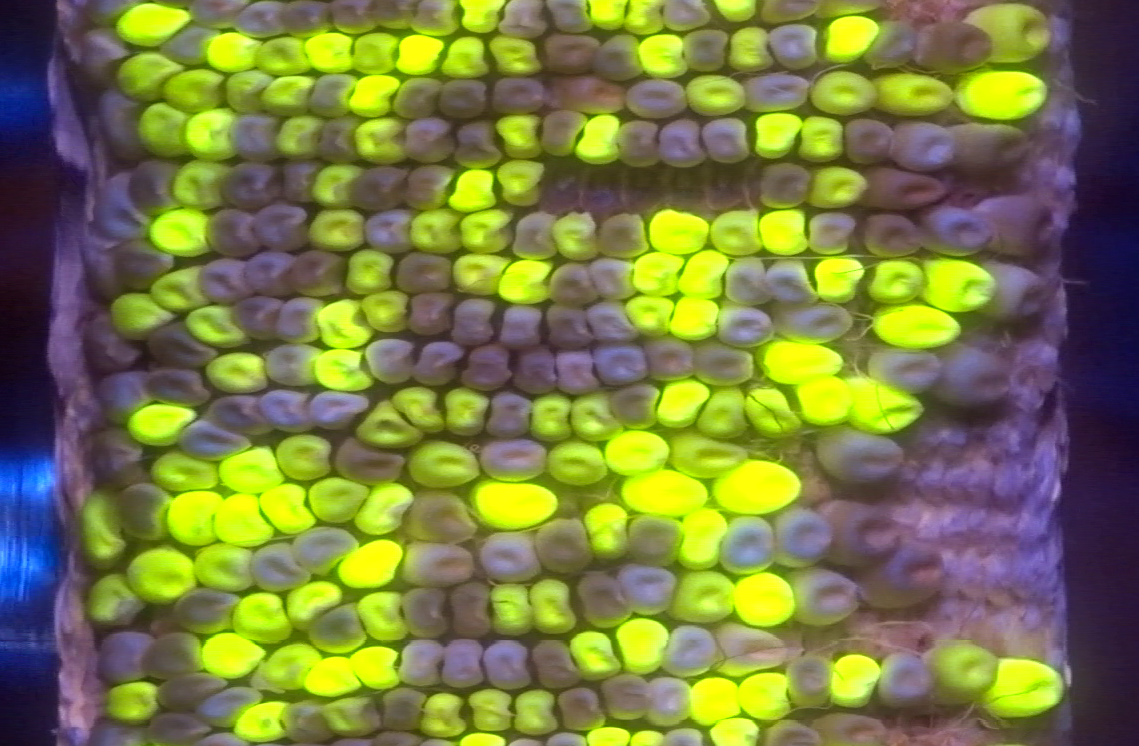fluorescent: (966, 7, 1055, 62), (844, 377, 924, 438), (927, 642, 998, 706), (982, 659, 1060, 717), (711, 465, 801, 515), (470, 482, 557, 530), (964, 74, 1044, 123), (623, 471, 709, 514), (250, 642, 321, 694), (872, 305, 961, 346), (671, 568, 732, 625), (925, 263, 994, 313), (131, 549, 194, 603), (355, 401, 423, 449), (759, 342, 842, 381), (734, 576, 796, 628), (873, 77, 953, 117), (668, 435, 746, 476), (743, 383, 800, 438), (546, 436, 605, 489), (679, 507, 729, 569), (355, 481, 412, 535), (116, 53, 177, 103), (606, 428, 668, 477), (617, 618, 667, 675), (128, 405, 197, 446), (83, 492, 125, 559), (829, 653, 880, 708), (408, 444, 478, 484), (261, 485, 317, 535), (683, 70, 745, 115), (809, 73, 878, 113), (233, 592, 293, 638), (335, 544, 400, 586), (276, 434, 334, 481), (308, 478, 367, 524), (647, 212, 710, 255), (88, 574, 140, 626), (168, 494, 220, 545), (531, 577, 577, 634), (202, 633, 264, 675), (216, 496, 269, 545), (151, 211, 210, 255), (110, 297, 174, 337), (139, 106, 187, 159), (317, 300, 372, 346), (194, 547, 254, 589), (566, 630, 619, 677), (738, 673, 791, 720), (315, 351, 375, 392), (173, 162, 224, 210), (115, 7, 181, 44), (794, 383, 847, 428), (576, 112, 620, 166), (288, 582, 343, 625), (394, 387, 443, 435), (676, 250, 726, 297), (489, 580, 536, 630), (222, 450, 282, 489), (303, 655, 360, 696), (685, 681, 742, 722), (346, 646, 400, 689), (713, 209, 760, 258), (185, 114, 235, 160), (569, 394, 620, 439), (359, 593, 407, 640), (453, 253, 506, 295), (153, 455, 218, 489), (553, 210, 598, 259), (585, 506, 629, 556), (502, 260, 553, 303), (188, 308, 247, 345), (497, 162, 544, 208), (812, 167, 866, 207), (466, 685, 511, 733), (355, 117, 405, 160), (869, 259, 920, 301), (462, 209, 512, 251), (675, 294, 721, 339), (422, 690, 467, 736), (488, 33, 541, 72), (828, 18, 876, 61), (346, 251, 394, 294), (208, 354, 268, 388), (152, 272, 207, 309), (697, 388, 743, 432), (755, 113, 798, 160), (530, 393, 572, 441), (631, 252, 679, 293), (236, 703, 290, 739), (165, 73, 222, 107), (103, 684, 154, 722), (730, 27, 774, 71), (315, 164, 359, 208), (305, 31, 350, 74), (659, 382, 700, 429), (801, 119, 843, 164), (760, 214, 805, 256), (639, 33, 685, 74), (412, 211, 458, 252), (347, 77, 395, 116), (447, 389, 486, 436), (625, 296, 674, 333), (259, 36, 306, 74), (279, 116, 319, 159), (313, 214, 362, 249), (498, 117, 544, 154), (449, 171, 495, 208), (400, 32, 441, 73), (816, 259, 857, 300), (354, 35, 398, 73), (203, 36, 255, 68), (443, 37, 484, 77), (517, 692, 554, 734), (364, 296, 409, 329), (227, 74, 267, 111), (455, 1, 504, 31), (266, 78, 309, 112), (709, 716, 759, 744), (626, 1, 663, 36), (587, 1, 623, 27), (711, 1, 757, 20), (458, 729, 507, 746), (587, 727, 631, 745), (630, 733, 668, 745)
nonfluorescent: (821, 426, 912, 483), (866, 544, 946, 608), (981, 190, 1057, 256), (950, 120, 1030, 179), (915, 18, 994, 77), (937, 347, 1015, 406), (824, 500, 892, 565), (718, 616, 787, 677), (992, 260, 1050, 328), (166, 583, 240, 636), (890, 119, 960, 175), (793, 567, 861, 623), (863, 169, 949, 213), (410, 493, 483, 544), (923, 204, 988, 260), (99, 86, 143, 168), (478, 436, 554, 483), (774, 508, 832, 569), (710, 299, 778, 350), (873, 343, 940, 394), (91, 173, 145, 236), (93, 628, 154, 683), (338, 438, 406, 486), (114, 488, 173, 543), (83, 313, 138, 370), (226, 156, 284, 210), (297, 523, 357, 575), (535, 522, 597, 572), (400, 546, 481, 584), (861, 210, 923, 259), (308, 600, 370, 649), (879, 653, 934, 708), (695, 337, 758, 385), (311, 386, 374, 434), (722, 517, 774, 575), (777, 304, 857, 341), (743, 73, 810, 117), (148, 323, 213, 368), (195, 252, 249, 306), (627, 511, 681, 565), (537, 32, 603, 76), (596, 211, 654, 261), (621, 562, 674, 616), (100, 369, 151, 425), (665, 620, 716, 675), (771, 19, 823, 72), (585, 298, 639, 349), (354, 161, 409, 211), (274, 295, 324, 350), (484, 530, 539, 580), (623, 78, 690, 119), (147, 633, 205, 680), (486, 636, 536, 690), (592, 31, 643, 83), (254, 203, 306, 254), (74, 236, 114, 302), (178, 418, 244, 458), (787, 650, 832, 708), (805, 206, 858, 255), (80, 30, 127, 85), (405, 287, 451, 343), (262, 343, 318, 389), (250, 545, 307, 590), (487, 74, 548, 116), (117, 244, 169, 293), (202, 208, 254, 257), (725, 255, 772, 309), (872, 18, 915, 77), (594, 343, 654, 385), (543, 304, 594, 353), (756, 161, 809, 208), (259, 390, 314, 435), (453, 121, 503, 170), (588, 252, 637, 302), (560, 80, 628, 116), (447, 298, 495, 349), (435, 78, 487, 125), (404, 118, 458, 163), (93, 428, 138, 482), (649, 677, 701, 723), (661, 119, 706, 172), (154, 670, 226, 703), (152, 370, 211, 410), (682, 25, 730, 74), (364, 208, 414, 255), (296, 249, 346, 296), (397, 638, 447, 685), (512, 206, 558, 257), (232, 113, 276, 166), (537, 107, 581, 160), (234, 290, 278, 343), (451, 581, 489, 642), (817, 714, 889, 746), (492, 1, 551, 40), (576, 574, 621, 625), (548, 260, 592, 312), (369, 336, 416, 384), (485, 390, 532, 438), (465, 343, 514, 389), (396, 254, 458, 290), (308, 71, 355, 118), (417, 340, 463, 388), (702, 118, 751, 163), (619, 120, 663, 170), (540, 638, 584, 688), (281, 700, 332, 743), (501, 301, 543, 353), (281, 1, 335, 41), (844, 118, 894, 161), (212, 394, 263, 435), (132, 160, 177, 206), (249, 252, 296, 296), (447, 638, 486, 690), (381, 684, 427, 728), (232, 1, 285, 39), (773, 260, 819, 303), (284, 156, 324, 205), (517, 348, 557, 397), (563, 683, 603, 732), (392, 77, 439, 118), (604, 675, 645, 722), (558, 345, 595, 397), (148, 712, 208, 744), (646, 338, 696, 376), (411, 1, 460, 39), (409, 161, 447, 210), (408, 588, 448, 634), (661, 1, 718, 33), (161, 25, 207, 64), (201, 693, 257, 724), (316, 118, 354, 163), (327, 1, 375, 35), (757, 1, 820, 26), (189, 1, 243, 30), (372, 1, 419, 34), (545, 1, 588, 35), (762, 719, 814, 746), (83, 1, 132, 28), (91, 723, 145, 746)
